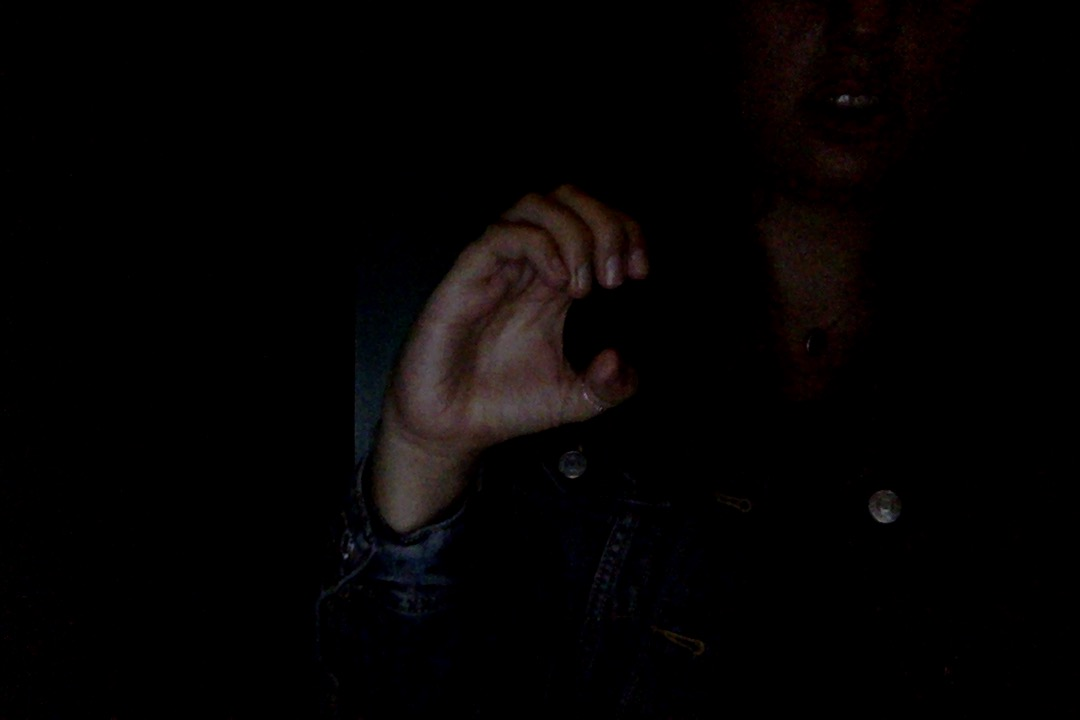c: (384, 163, 662, 477)
